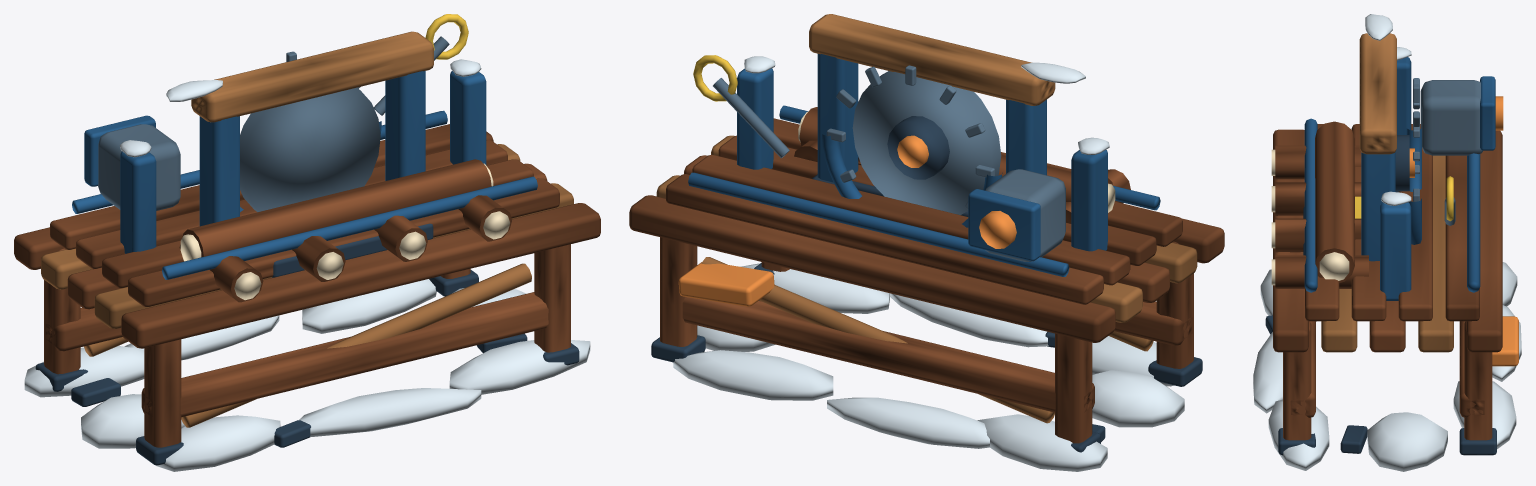
Rendered from processing_counter.glb.
The picture shows the model from 3 angles, left to right: view 1: azimuth 30°, elevation 25°; view 2: azimuth 150°, elevation 25°; view 3: azimuth 270°, elevation 25°; orthographic projection. The views are drawn at different scales.
Visible parts, largest first — view 1: processing_counter; view 2: processing_counter; view 3: processing_counter.
Part boxes in pixels (x1,y1,x2,y2): processing_counter: (14, 14, 600, 471); processing_counter: (629, 14, 1224, 471); processing_counter: (1253, 14, 1521, 471).
Bounding box in the file's own units: 3.16 × 2.11 × 1.72.
